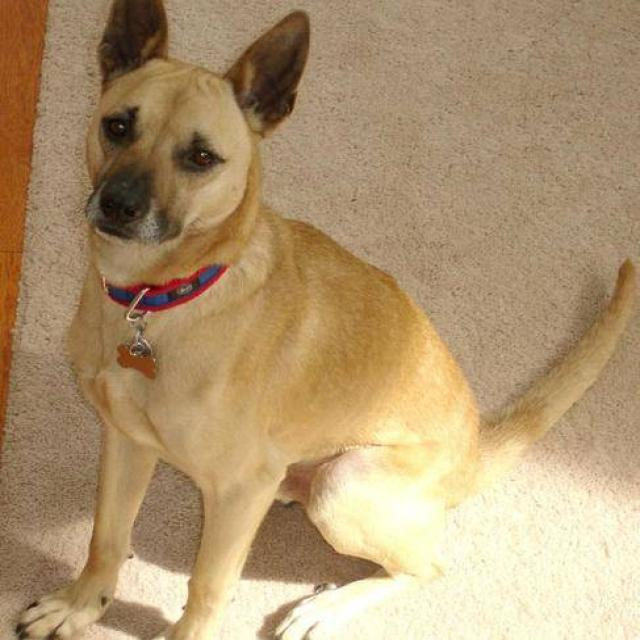dog: (12, 0, 636, 639)
